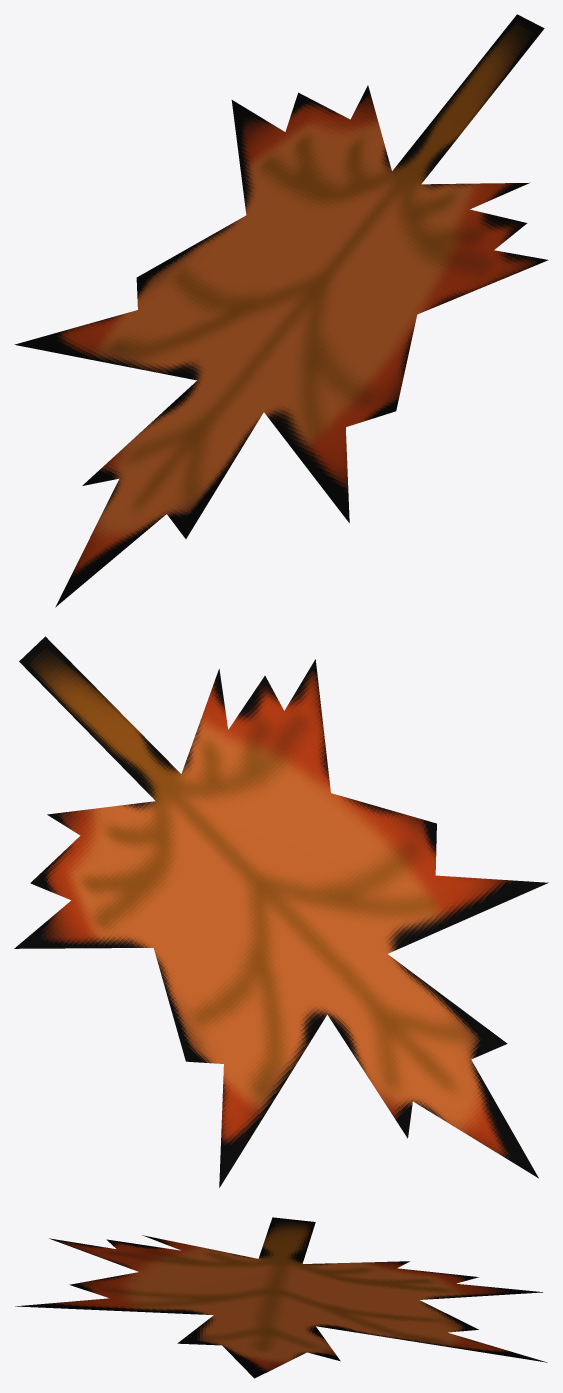
Rendered from leafTransparent.glb.
The picture shows the model from 3 angles, top to bottom: view 1: azimuth 30°, elevation 25°; view 2: azimuth 150°, elevation 25°; view 3: azimuth 270°, elevation 25°; orthographic projection. The views are drawn at different scales.
Parts seen in each view (by area): view 1: leaf_1.027; view 2: leaf_1.027; view 3: leaf_1.027.
Part boxes in pixels (box(x1,y1,x2,y2)): leaf_1.027: box(14, 14, 548, 607); leaf_1.027: box(14, 636, 548, 1187); leaf_1.027: box(15, 1217, 547, 1378).
Bounding box in the file's own units: 0.4631 × 0.3964 × 0.5426.
1 material, 1 textured.
